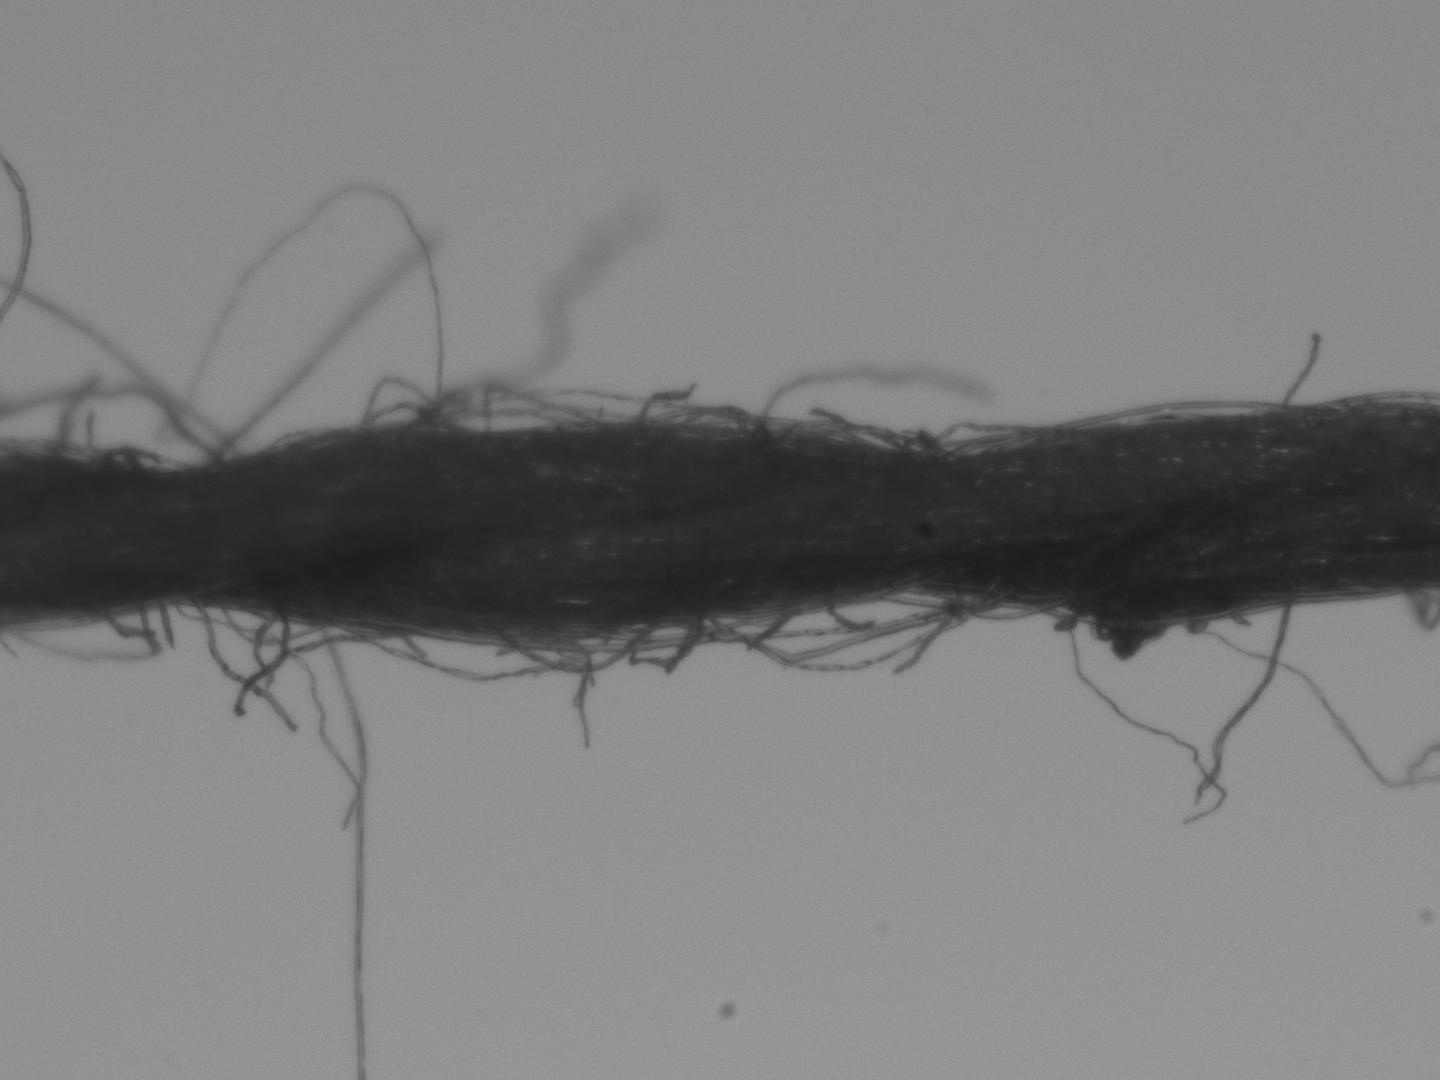loop_fiber: (715, 590, 984, 668), (1061, 396, 1272, 431), (497, 624, 650, 670), (218, 600, 323, 646), (654, 402, 773, 436), (941, 424, 1049, 456), (364, 400, 458, 433), (814, 419, 918, 448), (96, 442, 181, 467)
protruding_fiber: (1189, 602, 1296, 803), (195, 605, 299, 728), (1284, 331, 1324, 417), (743, 616, 780, 655), (156, 590, 177, 649)
